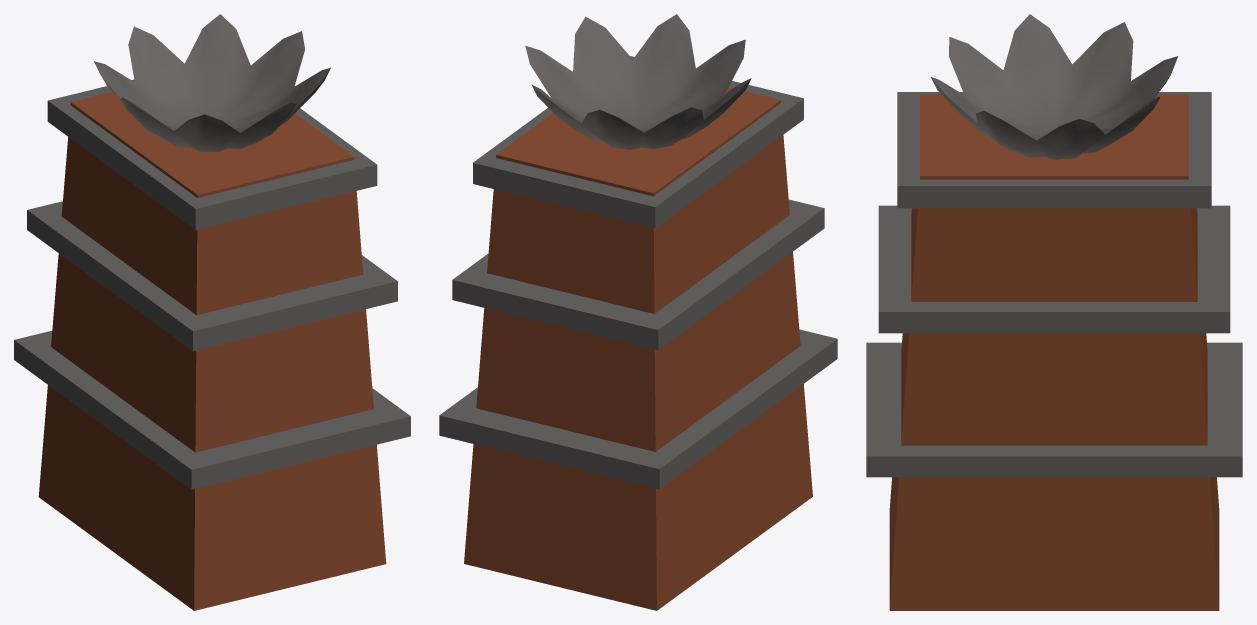
File: torch.fbx
3 renders of one model, left to right at view 1: azimuth 30°, elevation 25°; view 2: azimuth 150°, elevation 25°; view 3: azimuth 270°, elevation 25°, orthographic. The views are drawn at different scales.
Parts seen in each view (by area): view 1: Cube, Cone.001; view 2: Cube, Cone.001; view 3: Cube, Cone.001.
Part boxes in pixels (x1,y1,x2,y2): Cube: (14,79,410,610); Cone.001: (94,14,330,152); Cube: (439,56,837,610); Cone.001: (525,14,751,149); Cube: (866,92,1242,610); Cone.001: (931,14,1178,159).
Bounding box in the file's own units: 86.65 × 176 × 121.
